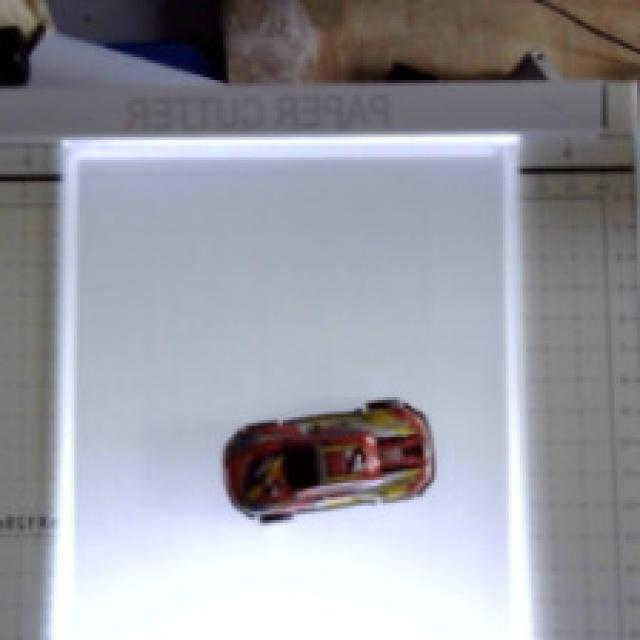Red Car: (174, 371, 459, 576)
